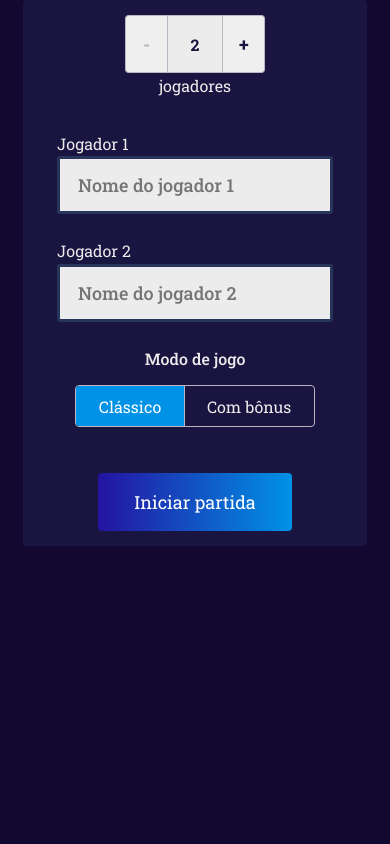
cadastro de jogadores › adiciona um campo de nome ao aumentar a quantidade de jogadores
The width and height of the screenshot is (390, 844).
Click the button named "mais um jogador". click: (244,44)
box: [223,15,265,73]
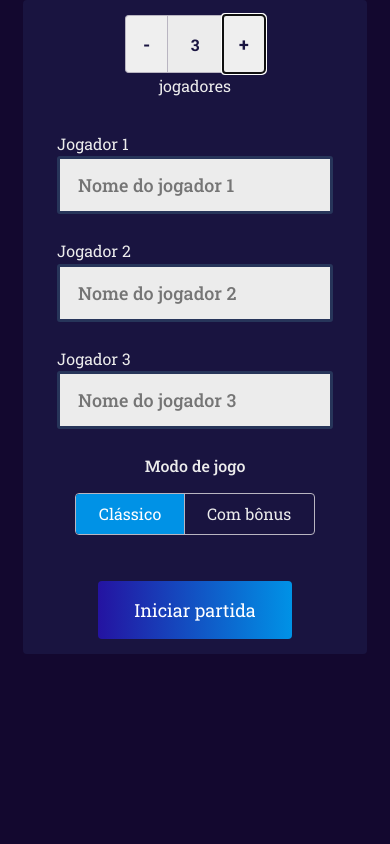
Expected: the field with placeholder "Nome do jogador 3" is shown, [57,371,333,429]
